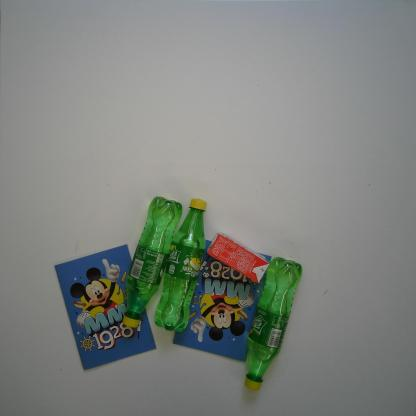Drink: (121, 194, 184, 329), (242, 256, 302, 392), (153, 197, 208, 333)
Milk: (207, 231, 271, 284)
Stationery: (53, 244, 157, 371), (172, 238, 272, 362)
